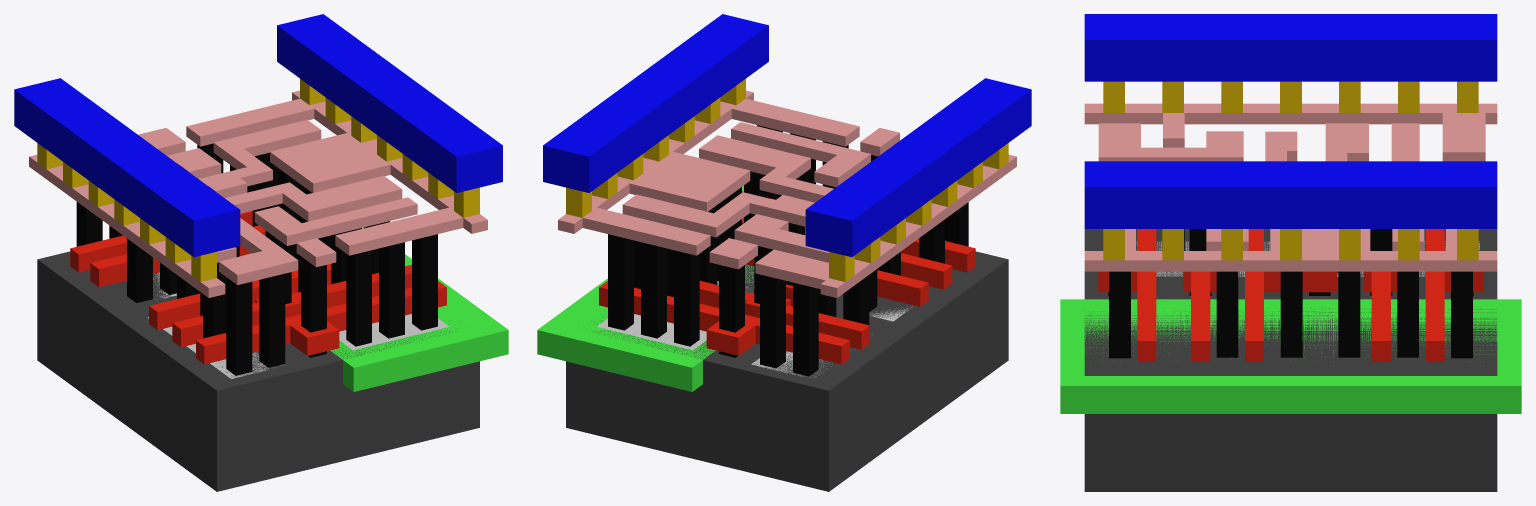
File: sky130_fd_sc_hd__o2bb2ai_1.obj
3 renders of one model, left to right at view 1: azimuth 30°, elevation 25°; view 2: azimuth 150°, elevation 25°; view 3: azimuth 270°, elevation 25°, orthographic. The views are drawn at different scales.
Parts seen in each view (by area): view 1: subs, metal1, li, licon, poly, nwell, mcon, tap, diff; view 2: subs, metal1, li, licon, poly, nwell, mcon, tap, diff; view 3: metal1, subs, nwell, li, licon, poly, mcon.
Part boxes in pixels (x1,y1,x2,y2): subs: (37,251,479,491); metal1: (14,14,502,257); li: (29,90,487,297); licon: (76,143,437,375); poly: (70,211,446,364); nwell: (243,227,508,391); mcon: (37,79,479,281); tap: (339,314,449,350); diff: (147,272,280,378); subs: (566,251,1008,491); metal1: (543,14,1031,257); li: (558,90,1016,297); licon: (608,125,968,376); poly: (599,191,975,364); nwell: (537,185,753,391); mcon: (566,79,1008,281); tap: (596,266,753,350); diff: (751,306,912,377); metal1: (1084,14,1497,228); subs: (1084,229,1497,491); nwell: (1060,299,1521,413); li: (1084,103,1497,271); licon: (1108,229,1473,358); poly: (1098,229,1483,361); mcon: (1103,81,1478,260).
Bounding box in the file's own units: 3.2 × 2.74 × 3.6.
